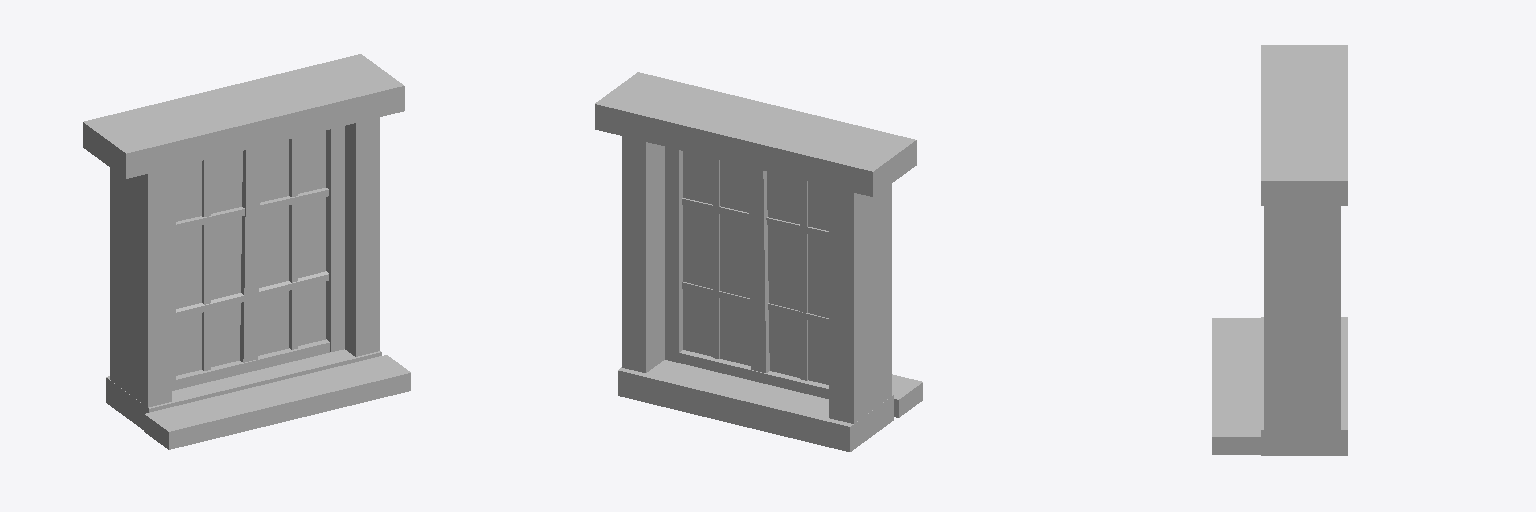
The model's file is Window_Wide_Flat1.obj.
3 renders of one model, left to right at view 1: azimuth 30°, elevation 25°; view 2: azimuth 150°, elevation 25°; view 3: azimuth 270°, elevation 25°, orthographic.
Parts seen in each view (by area): view 1: Window_Wide_Flat1; view 2: Window_Wide_Flat1; view 3: Window_Wide_Flat1.
Part boxes in pixels (x1,y1,x2,y2): Window_Wide_Flat1: (83,54,410,449); Window_Wide_Flat1: (595,72,922,451); Window_Wide_Flat1: (1212,45,1347,455).
Bounding box in the file's own units: 1.61 × 1.58 × 0.6834.